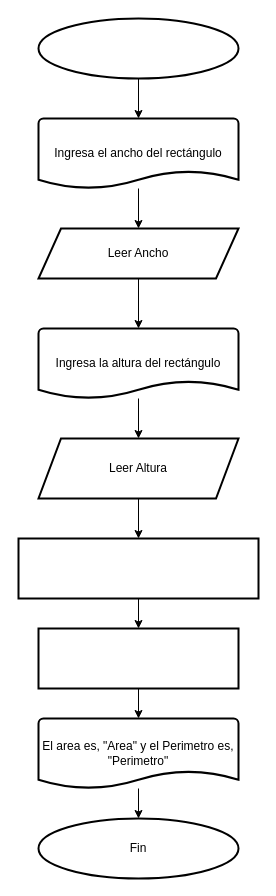
This 276x896 diagram has some shape labels left out. Here are the shapes that lost their labels. From the top down, the box of each, then its label:
(37, 17, 239, 79): Inicio
(17, 537, 259, 599): Perimetro = 2*(Ancho+Altura)
(37, 627, 239, 689): Area = (Ancho*Altura) / 2
